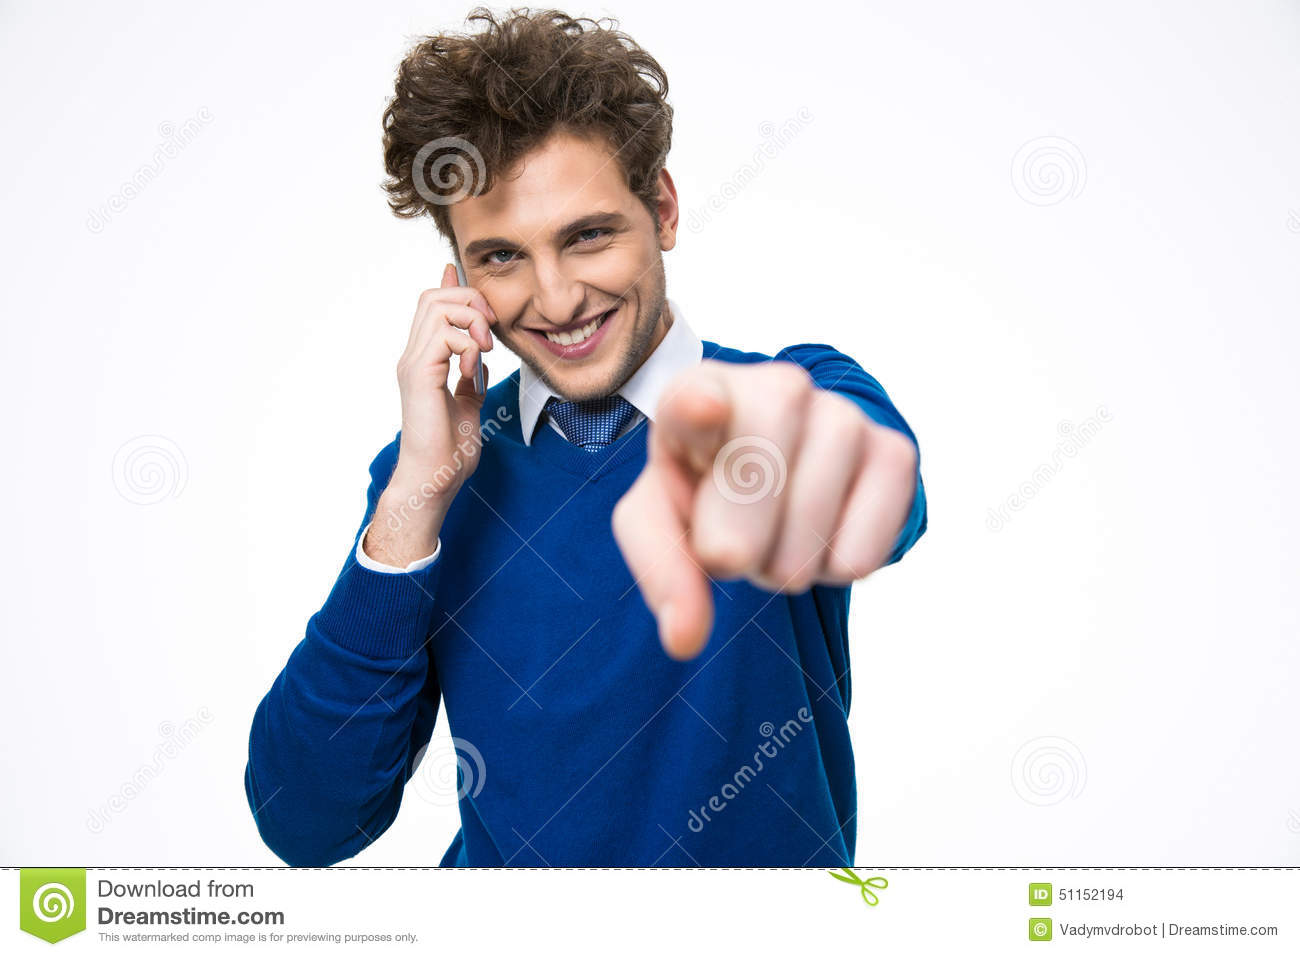phone: (436, 238, 497, 397)
talk: (394, 194, 649, 482)
